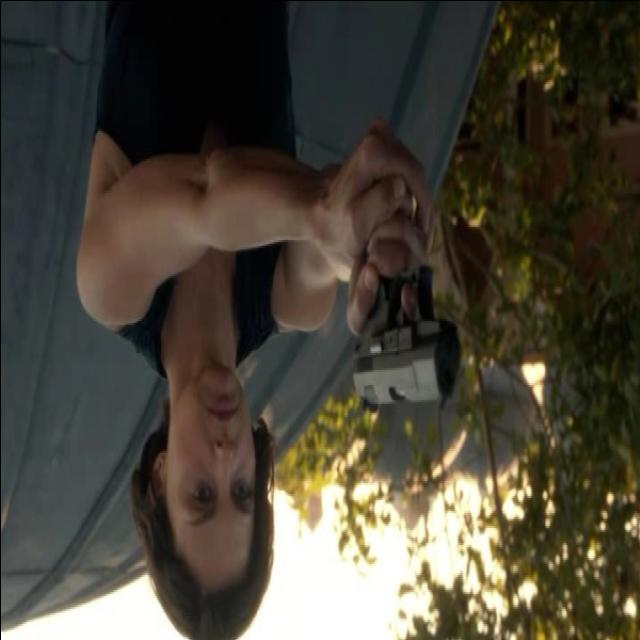weapons: (322, 166, 483, 472)
